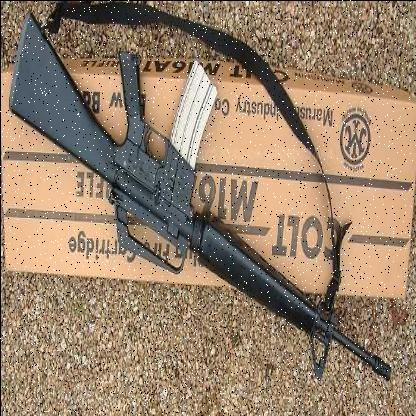rifle: (7, 18, 396, 394)
